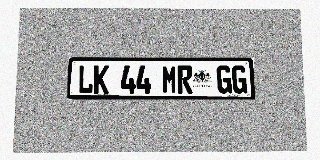4: (121, 65, 136, 94), (136, 65, 151, 94)
G: (216, 65, 232, 93), (232, 65, 247, 93)
K: (93, 65, 109, 94)
L: (78, 65, 93, 94)
M: (162, 65, 177, 94)
R: (177, 65, 192, 94)
